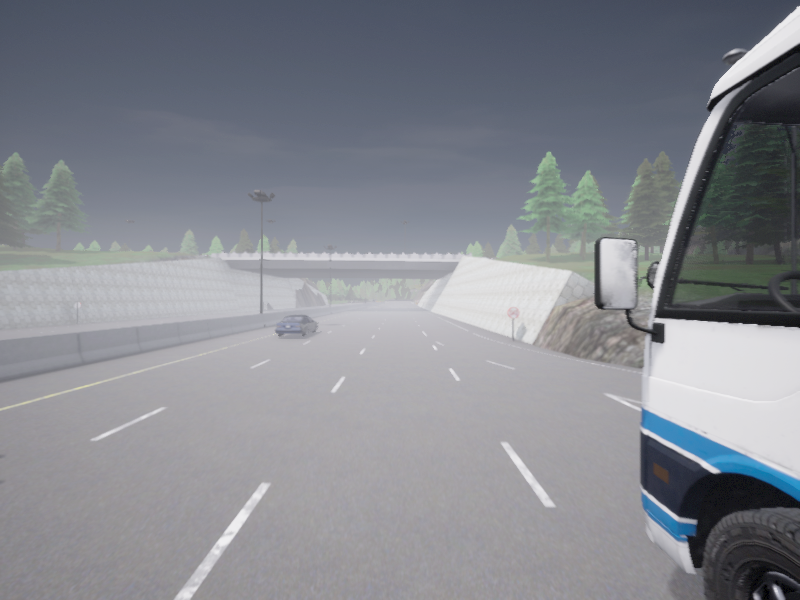vehicle: (595, 6, 799, 599), (275, 315, 318, 336)
